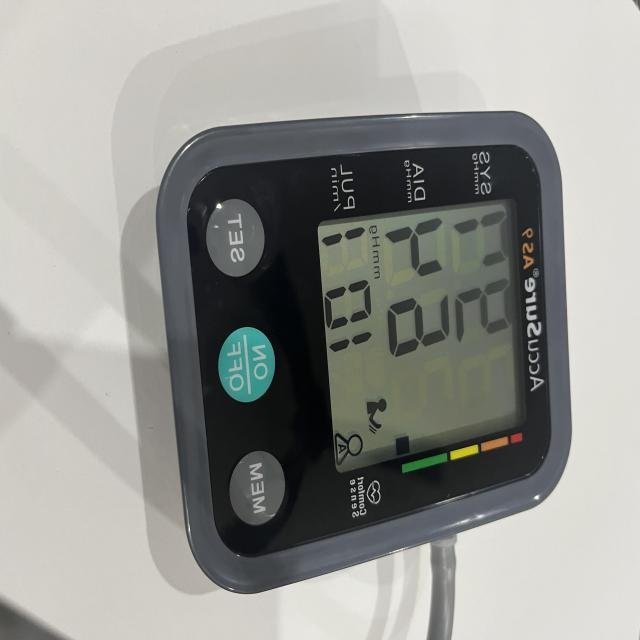bp: (127, 66, 575, 598)
